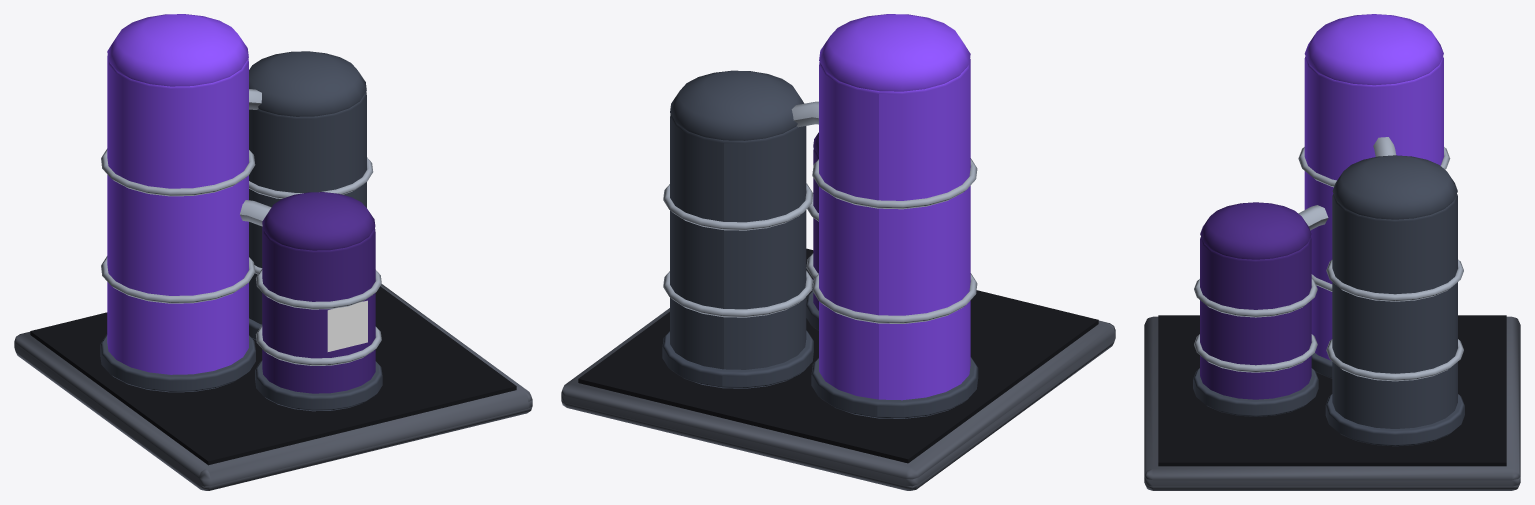
The model's file is redshift.glb.
3 renders of one model, left to right at view 1: azimuth 30°, elevation 25°; view 2: azimuth 150°, elevation 25°; view 3: azimuth 270°, elevation 25°, orthographic. The views are drawn at different scales.
Visible parts, largest first — view 1: body.accent, body.rubber, body.steel, body.accent_dark, body.concrete, body.steel_light, body.badge; view 2: body.accent, body.steel, body.rubber, body.concrete, body.steel_light, body.accent_dark; view 3: body.steel, body.rubber, body.accent, body.accent_dark, body.concrete, body.steel_light.
Boxes of the visible parts, x1=… form: body.accent: x1=107, y1=14, x2=248, y2=374; body.rubber: x1=30, y1=286, x2=516, y2=465; body.steel: x1=100, y1=51, x2=382, y2=411; body.accent_dark: x1=262, y1=192, x2=375, y2=393; body.concrete: x1=14, y1=284, x2=532, y2=490; body.steel_light: x1=101, y1=89, x2=381, y2=365; body.badge: x1=327, y1=300, x2=367, y2=351; body.accent: x1=819, y1=14, x2=970, y2=400; body.steel: x1=662, y1=70, x2=978, y2=418; body.rubber: x1=578, y1=248, x2=1098, y2=463; body.concrete: x1=561, y1=308, x2=1115, y2=490; body.steel_light: x1=663, y1=101, x2=977, y2=323; body.accent_dark: x1=813, y1=132, x2=818, y2=310; body.steel: x1=1193, y1=155, x2=1464, y2=446; body.rubber: x1=1158, y1=315, x2=1506, y2=466; body.accent: x1=1304, y1=14, x2=1443, y2=360; body.accent_dark: x1=1200, y1=202, x2=1311, y2=399; body.concrete: x1=1144, y1=316, x2=1520, y2=490; body.steel_light: x1=1194, y1=137, x2=1463, y2=381.
Size of the model in its own units: 1.08 by 1.12 by 1.08.
